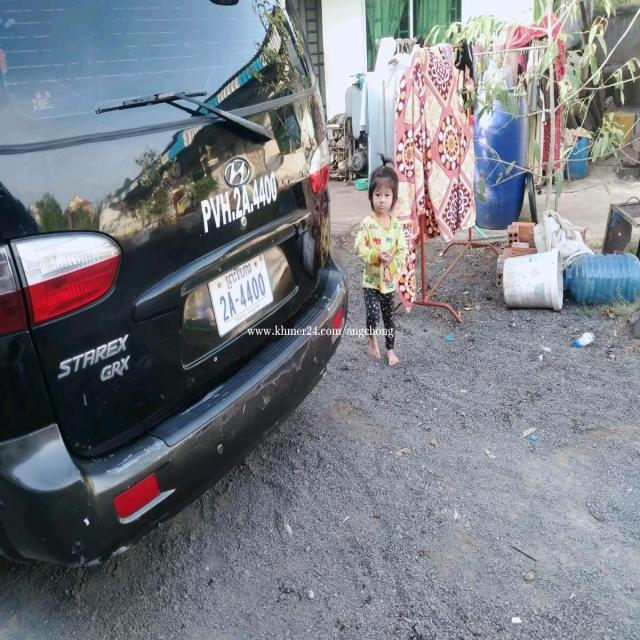Preah_Vihear: (226, 263, 252, 289)
